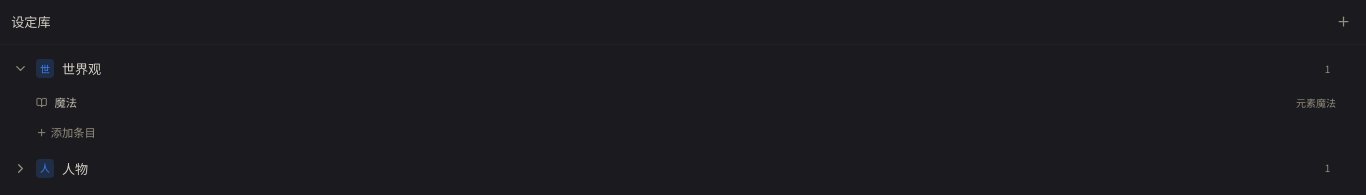
it: SettingsPanel › 多个分类只展开一个（手风琴模式）
The image size is (1366, 195).
Expected: the text "魔法" is shown, [54, 94, 77, 110]
#  点击第二个分类
Click the text "人物" at {"x": 75, "y": 168}, box [62, 159, 88, 178]
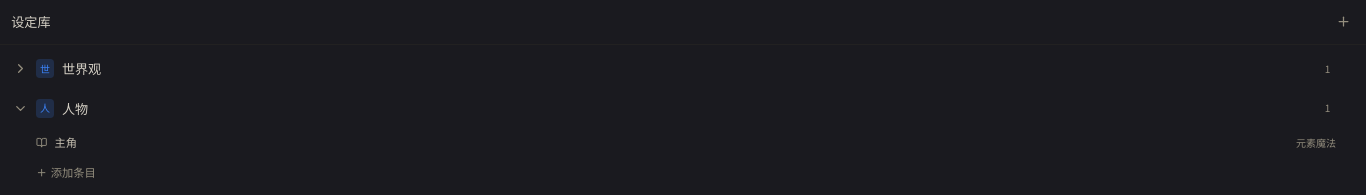
Expected: the text "主角" is shown, [54, 134, 77, 150]
